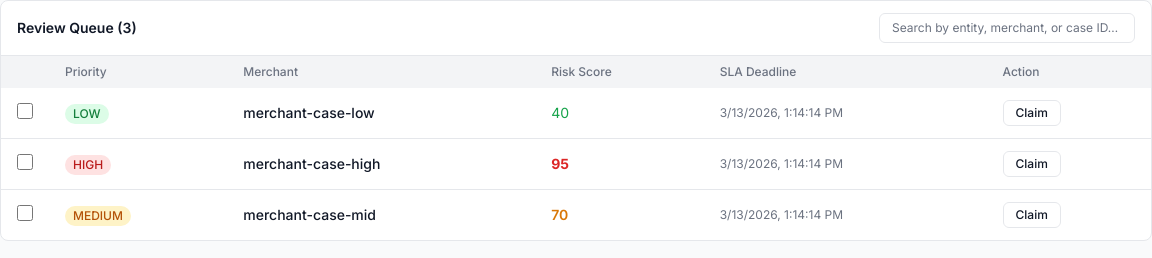
Test: CaseReviewQueue › search functionality › aborts previous in-flight request when a new keystroke arrives
Note: First keystroke
Type "first" into the field with test id "case-search-input". click: (1007, 28)
box: [879, 13, 1135, 43]
Wait 350 ms
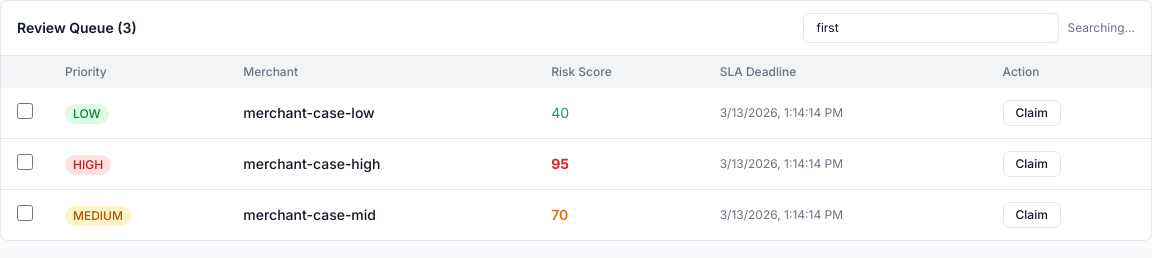
Note: Second keystroke — should abort the first request
Replace the text in the field with test id "case-search-input" with "second". click: (932, 28)
box: [804, 13, 1060, 43]
Wait 350 ms
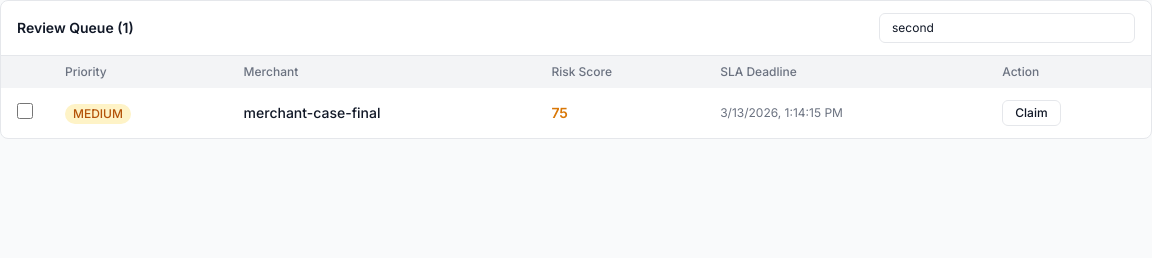
Expected: the text "merchant-case-final" is shown, [228, 88, 535, 138]
